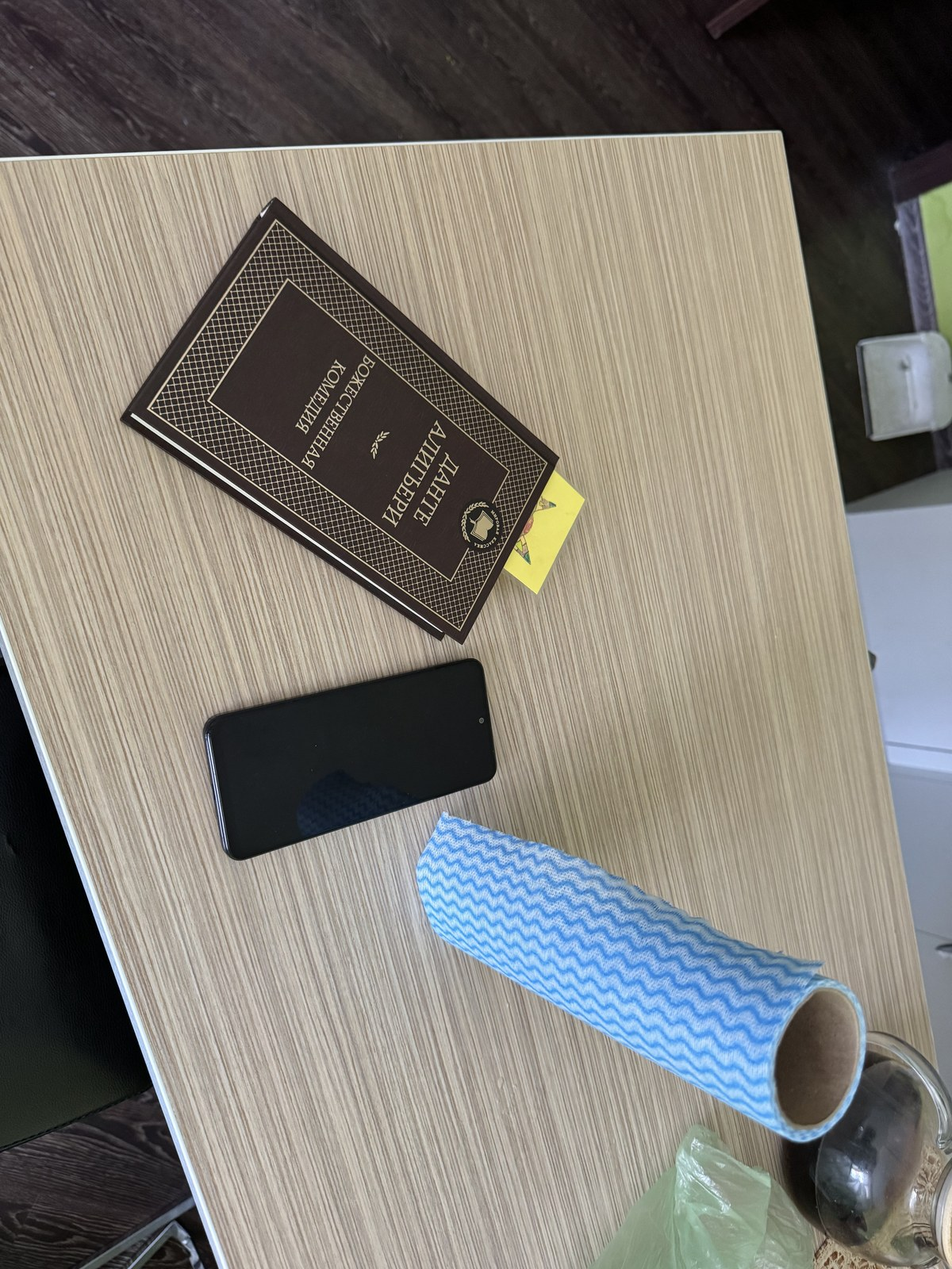cell phone: (201, 657, 498, 862)
